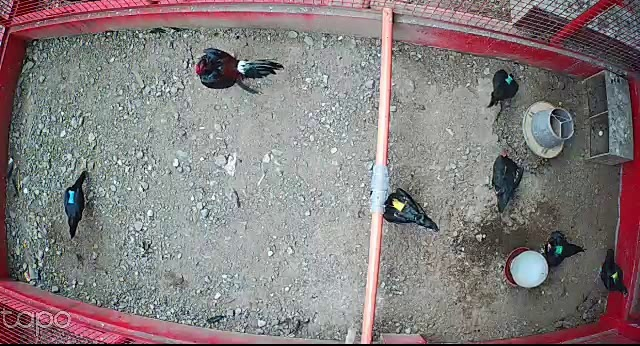Chicken: (377, 186, 441, 231), (488, 155, 526, 213), (63, 168, 91, 243), (537, 230, 587, 269), (593, 247, 630, 298), (487, 69, 520, 110)
Drinker: (500, 247, 550, 292)
Feeder: (520, 99, 577, 159)
Rooster: (193, 47, 284, 91)
Saddle_Color_Blue: (67, 190, 76, 204)
Saddle_Color_Yellow: (390, 198, 405, 212)
Saddle_Color_YellowGreen: (611, 272, 621, 283)
